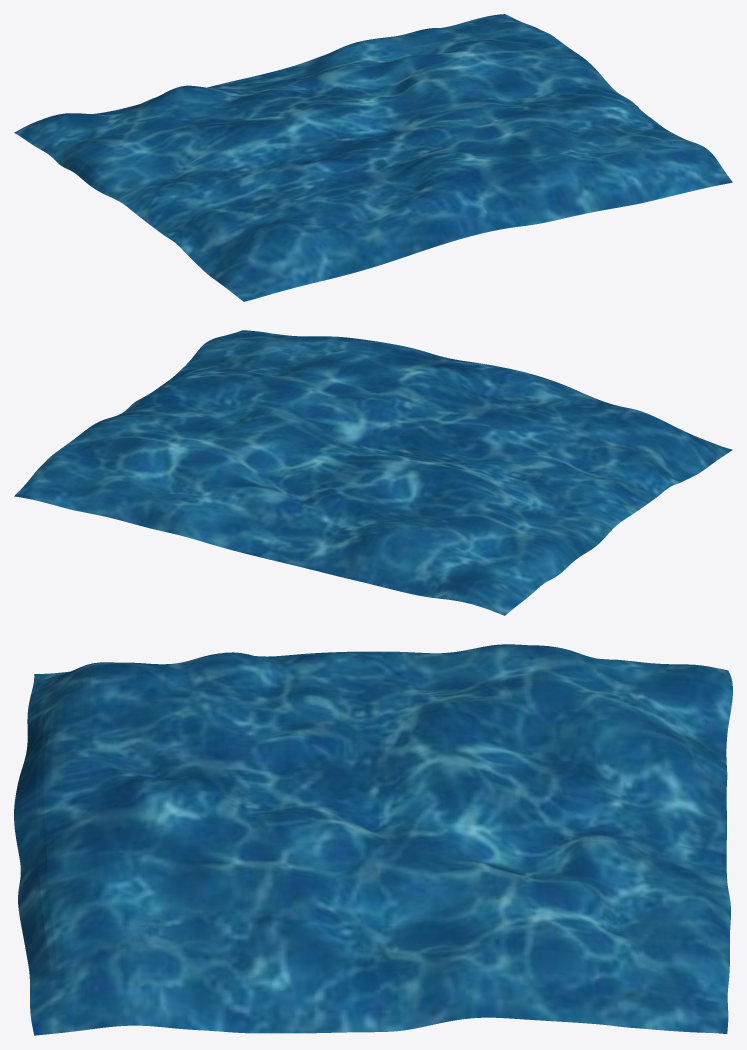
File: water.obj
3 views of the same model, one above another, from view 1: azimuth 30°, elevation 25°; view 2: azimuth 150°, elevation 25°; view 3: azimuth 270°, elevation 25° (orthographic). The views are drawn at different scales.
Visible parts, largest first — view 1: Plane; view 2: Plane; view 3: Plane.
Boxes of the visible parts, x1,y1,x2,y2 form: Plane: [14, 14, 732, 301]; Plane: [14, 330, 732, 615]; Plane: [14, 644, 732, 1035].
Bounding box in the file's own units: 9.96 × 0.8724 × 8.15.
Materials: 1 (1 with a texture image).
